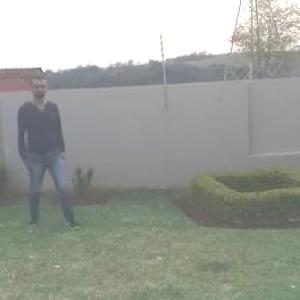follow: (15, 72, 66, 229)
